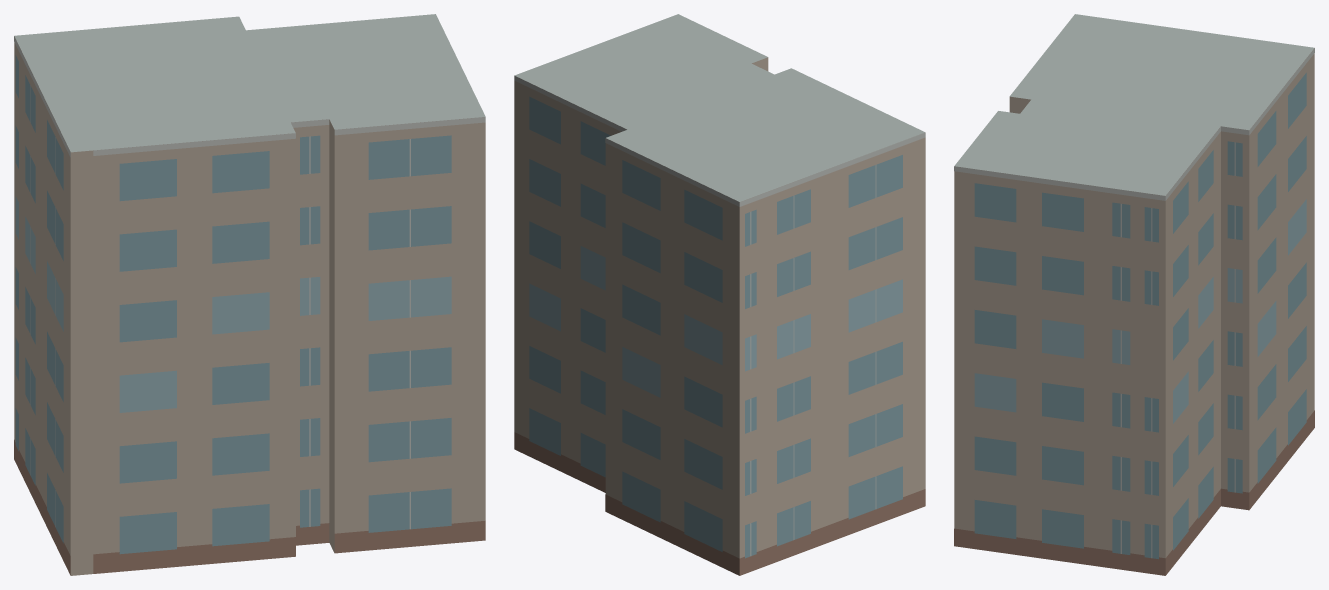
The model's file is survey-upis-32970858.glb.
The picture shows the model from 3 angles, left to right: view 1: azimuth 30°, elevation 25°; view 2: azimuth 150°, elevation 25°; view 3: azimuth 270°, elevation 25°; orthographic projection. The views are drawn at different scales.
Parts seen in each view (by area): view 1: survey-upis-32970858.tmp; view 2: survey-upis-32970858.tmp; view 3: survey-upis-32970858.tmp.
Boxes of the visible parts, x1,y1,x2,y2 form: survey-upis-32970858.tmp: [14, 14, 485, 575]; survey-upis-32970858.tmp: [514, 14, 925, 575]; survey-upis-32970858.tmp: [954, 14, 1314, 575].
Size of the model in its own units: 18.8 by 18.3 by 15.75.
